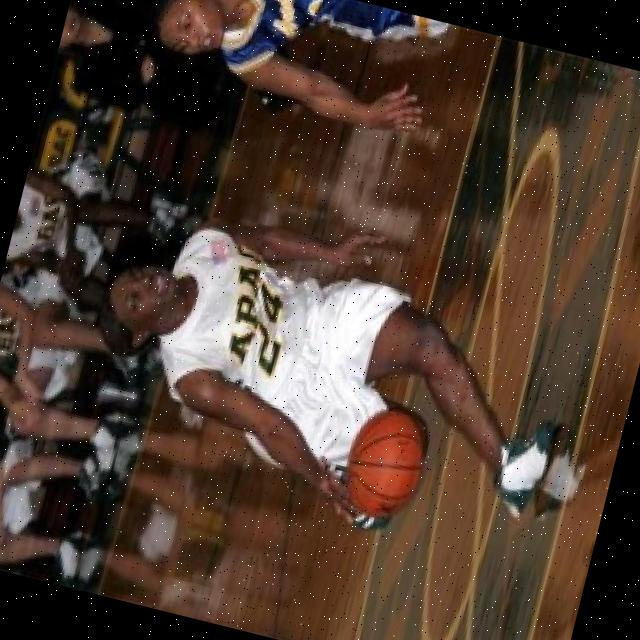ball: (315, 390, 446, 530)
